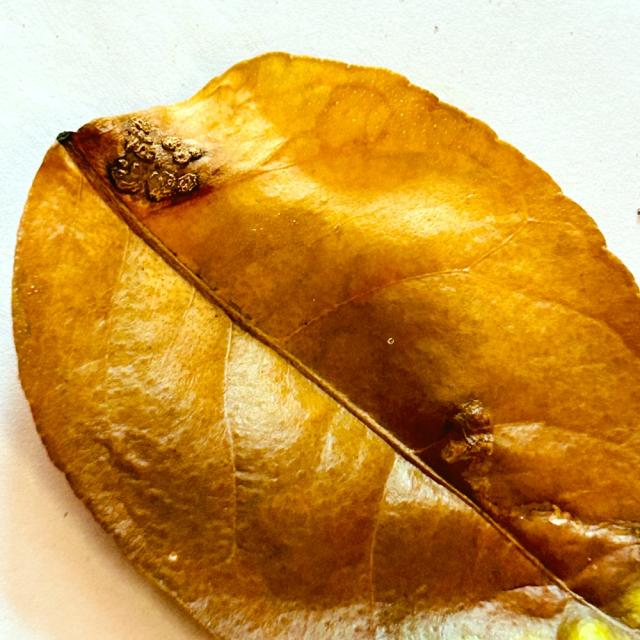DryLeaf_Lemon: (12, 52, 639, 639)
